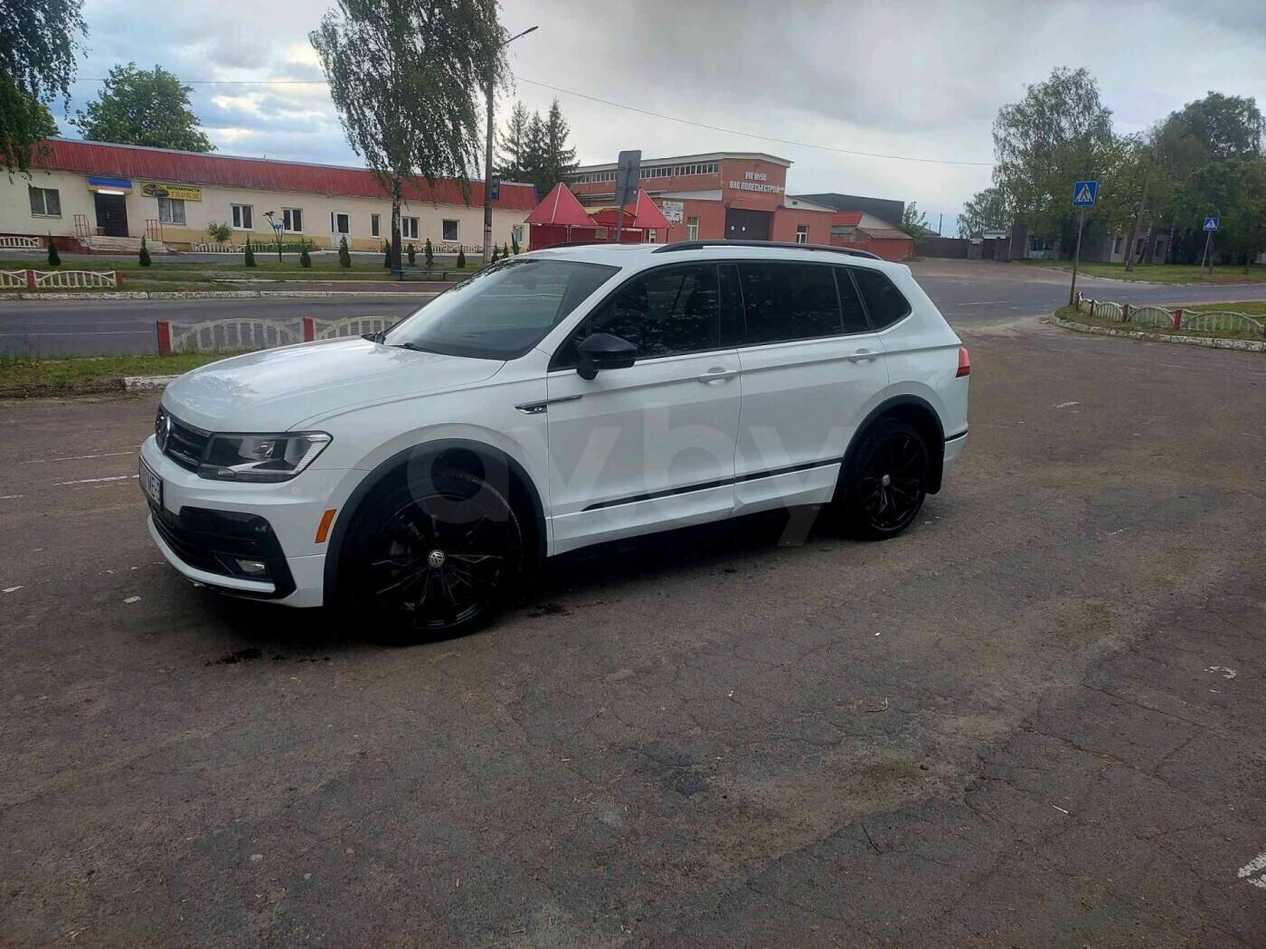Tiguan_2016-2021: (136, 241, 978, 642)
